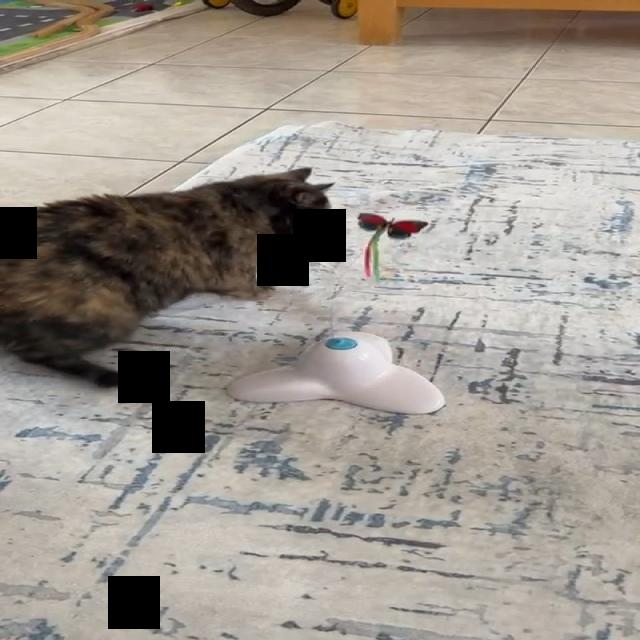authorized: (0, 166, 335, 389)
